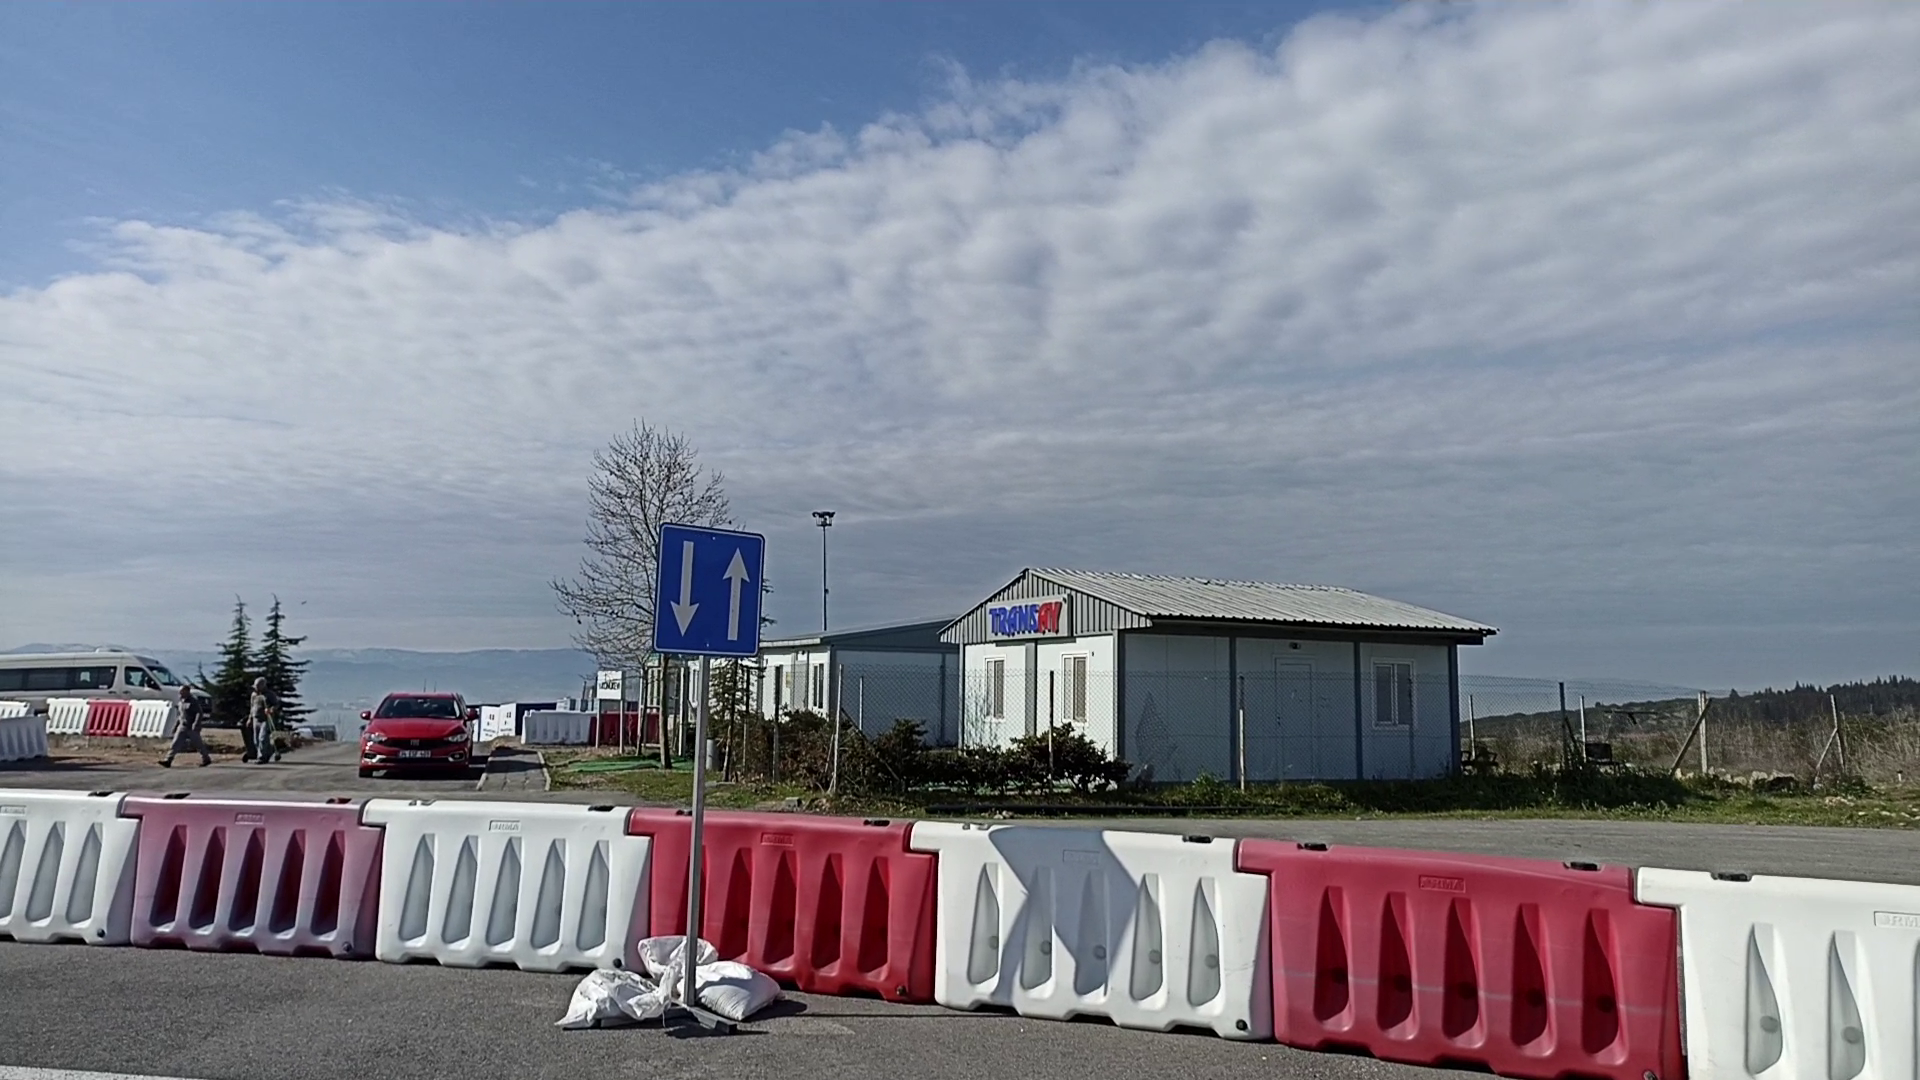oneway: (647, 520, 767, 659)
